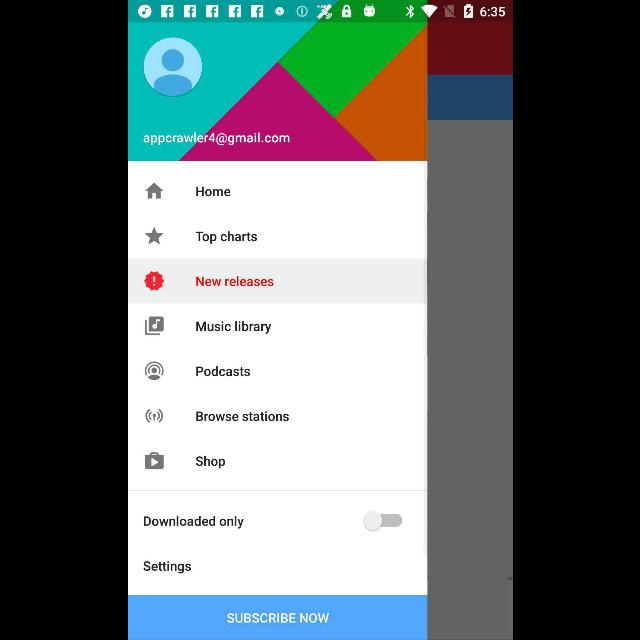icon: (142, 37, 202, 97), (144, 316, 164, 336), (144, 271, 164, 291), (144, 362, 164, 381), (144, 452, 164, 470), (144, 227, 164, 245), (144, 183, 164, 199)
image: (145, 409, 163, 423)
panel: (128, 22, 426, 640)
switch: (362, 511, 402, 531)
text: (143, 132, 290, 146), (143, 516, 243, 528), (195, 411, 288, 422), (196, 322, 270, 334), (195, 276, 273, 286), (195, 232, 257, 244), (143, 560, 191, 574), (195, 366, 249, 376), (195, 456, 225, 468), (196, 187, 230, 197)
textbutton: (128, 596, 426, 640)
uppertaskbar: (128, 1, 512, 23)
